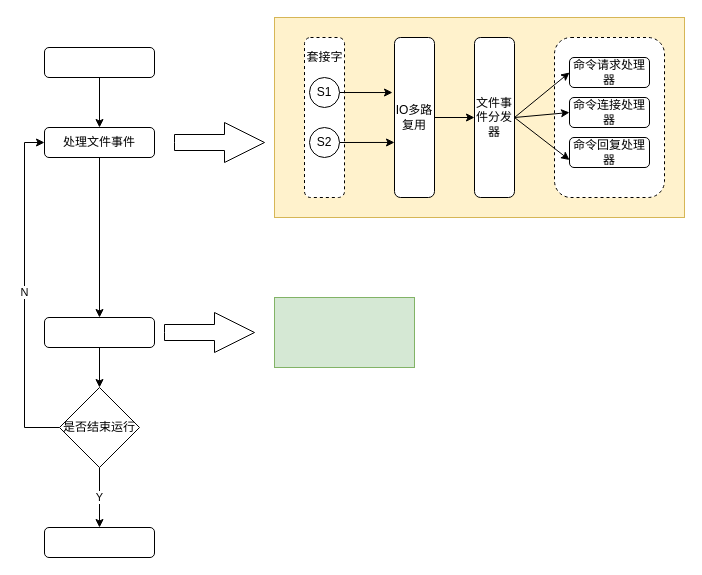
Some shapes in this 702 by 575 pixel diagram are drawn without their labels. The shapes that lost their labels are listed below. From the top down, each one's centre as x and y in pixels, then its label:
the point at 99,62: 开始
the point at 99,332: 处理时间事件
the point at 344,332: ServerCron时间事件
the point at 99,542: 结束
